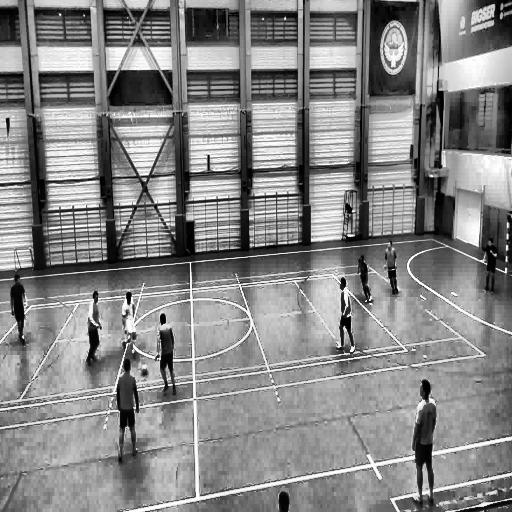ball: (142, 364, 148, 374)
player: (407, 376, 437, 508), (117, 357, 140, 462), (332, 274, 356, 354), (154, 312, 176, 395), (85, 290, 103, 366), (9, 276, 28, 343), (122, 292, 136, 354), (384, 239, 398, 296), (483, 237, 497, 291), (358, 254, 372, 304)
